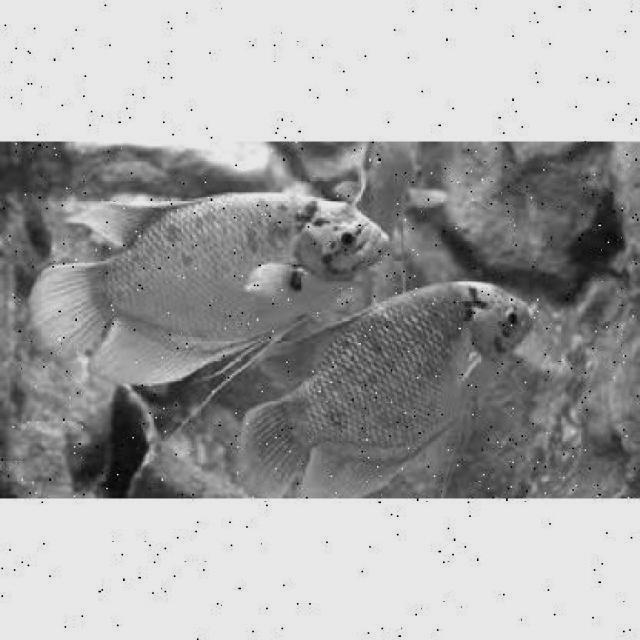gurame: (33, 189, 389, 380), (238, 276, 534, 496)
